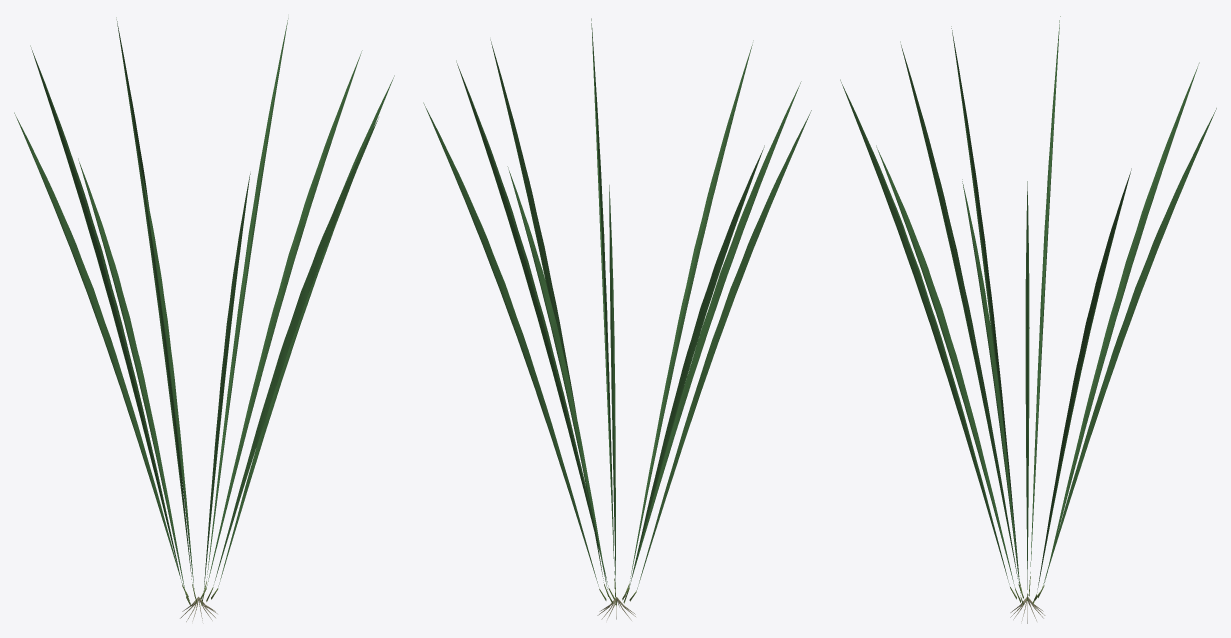
The model's file is vallisgiant-desktop.glb.
3 views of the same model, side by side, from view 1: azimuth 30°, elevation 25°; view 2: azimuth 150°, elevation 25°; view 3: azimuth 270°, elevation 25° (orthographic). The views are drawn at different scales.
Parts seen in each view (by area): view 1: blade; view 2: blade; view 3: blade.
Part boxes in pixels (x1,y1,x2,y2): blade: (14, 17, 394, 596); blade: (423, 18, 811, 594); blade: (840, 16, 1216, 595).
Bounding box in the file's own units: 0.7511 × 1.15 × 0.7561.
